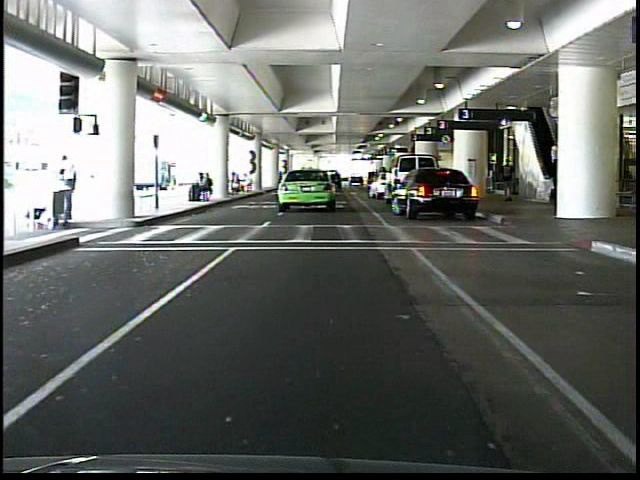person: (52, 153, 85, 230), (499, 158, 517, 206)
